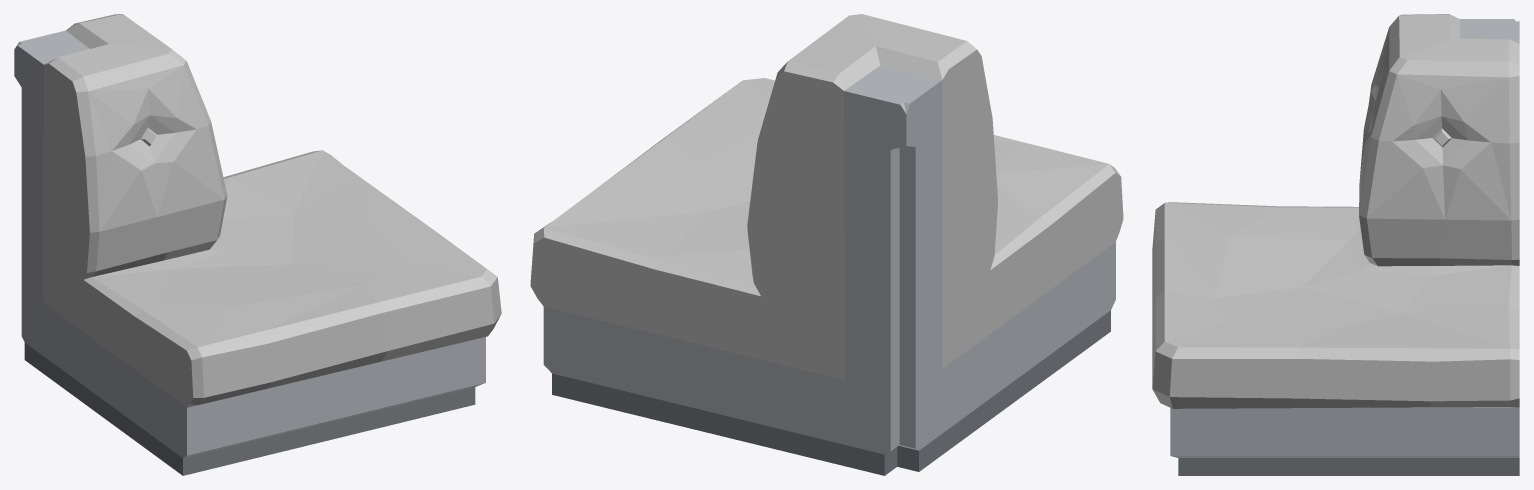
Rendered from SM_Prop_Sofa_03_Corner_06.fbx.
3 views of the same model, side by side, from view 1: azimuth 30°, elevation 25°; view 2: azimuth 150°, elevation 25°; view 3: azimuth 270°, elevation 25° (orthographic). The views are drawn at different scales.
Parts seen in each view (by area): view 1: SM_Prop_Sofa_03_Corner_06; view 2: SM_Prop_Sofa_03_Corner_06; view 3: SM_Prop_Sofa_03_Corner_06.
Boxes of the visible parts, left/top/right/bottom form: SM_Prop_Sofa_03_Corner_06: left=14, top=14, right=501, bottom=475; SM_Prop_Sofa_03_Corner_06: left=530, top=14, right=1123, bottom=475; SM_Prop_Sofa_03_Corner_06: left=1152, top=14, right=1519, bottom=475.
Bounding box in the file's own units: 114 × 110 × 114.
